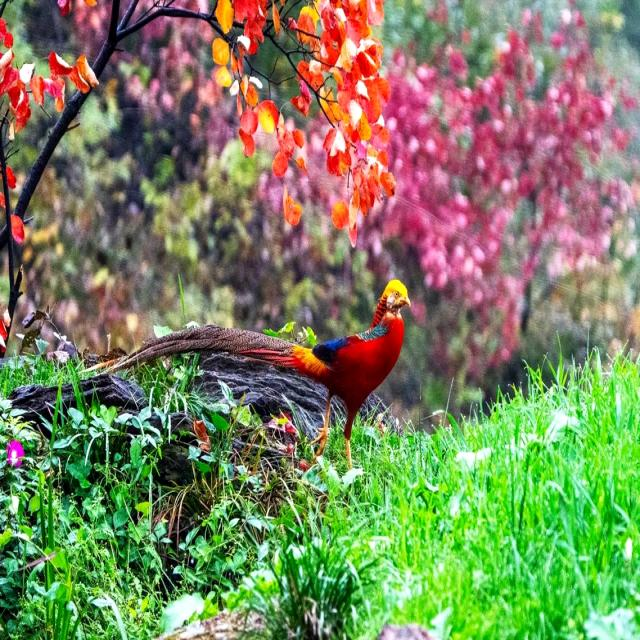Chrysolophus pictus feather: (101, 326, 294, 371)
